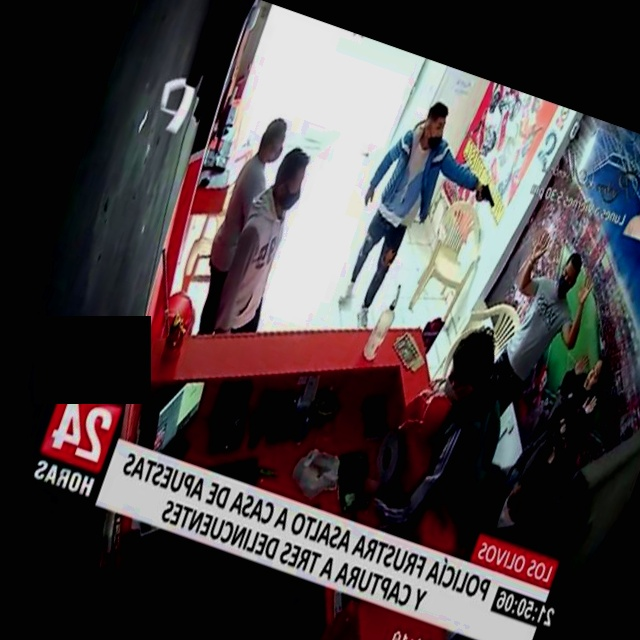gun: (464, 166, 516, 223)
